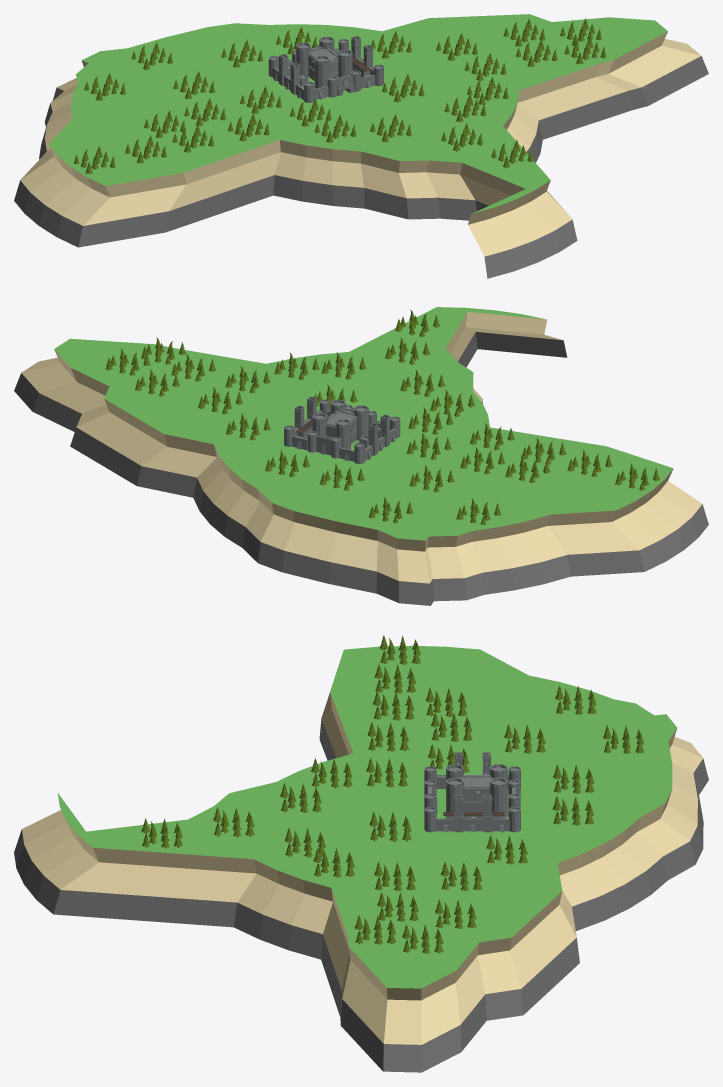
File: Island3.glb
The picture shows the model from 3 angles, top to bottom: view 1: azimuth 30°, elevation 25°; view 2: azimuth 150°, elevation 25°; view 3: azimuth 270°, elevation 25°; orthographic projection. The views are drawn at different scales.
Parts seen in each view (by area): view 1: Cylinder.004, Fortress, Resource_PineTree_Group.013, Resource_PineTree_Group.035, Resource_PineTree_Group.020, Resource_PineTree_Group.024, Resource_PineTree_Group.019, Resource_PineTree_Group.018, Resource_PineTree_Group.034, Resource_PineTree_Group.015, Resource_PineTree_Group.030, Resource_PineTree_Group.036 (+16 smaller); view 2: Cylinder.004, Fortress; view 3: Cylinder.004, Fortress.
Boxes of the visible parts, box(x1,y1,x2,y2) form: Cylinder.004: box(14, 14, 708, 278); Fortress: box(268, 36, 383, 102); Resource_PineTree_Group.013: box(382, 73, 424, 102); Resource_PineTree_Group.035: box(314, 114, 356, 142); Resource_PineTree_Group.020: box(464, 52, 506, 80); Resource_PineTree_Group.024: box(503, 18, 545, 46); Resource_PineTree_Group.019: box(444, 93, 486, 122); Resource_PineTree_Group.018: box(370, 113, 411, 142); Resource_PineTree_Group.034: box(491, 139, 533, 168); Resource_PineTree_Group.015: box(173, 71, 214, 99); Resource_PineTree_Group.030: box(184, 98, 225, 126); Resource_PineTree_Group.036: box(172, 124, 214, 152); Cylinder.004: box(14, 307, 708, 605); Fortress: box(284, 396, 400, 464); Cylinder.004: box(14, 645, 708, 1072); Fortress: box(424, 752, 520, 832).
Size of the model in its own units: 27.64 by 3.21 by 21.11.
8 materials, 1 textured.
